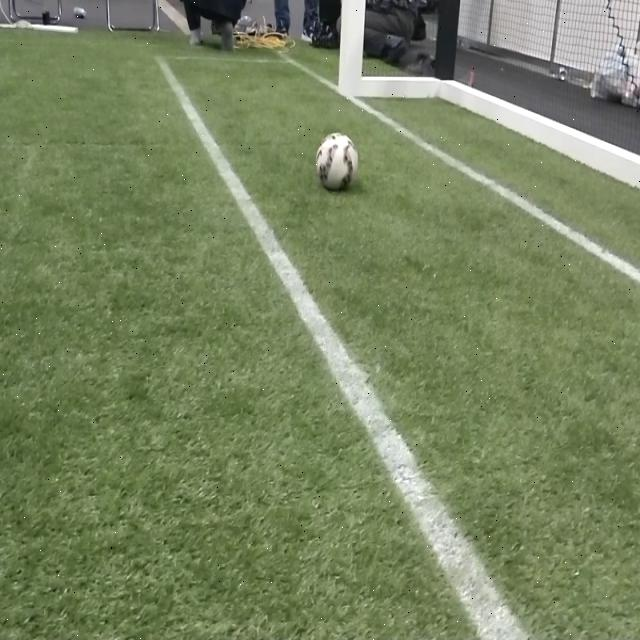ball: (317, 132, 358, 194)
goalpost: (336, 0, 365, 97)
